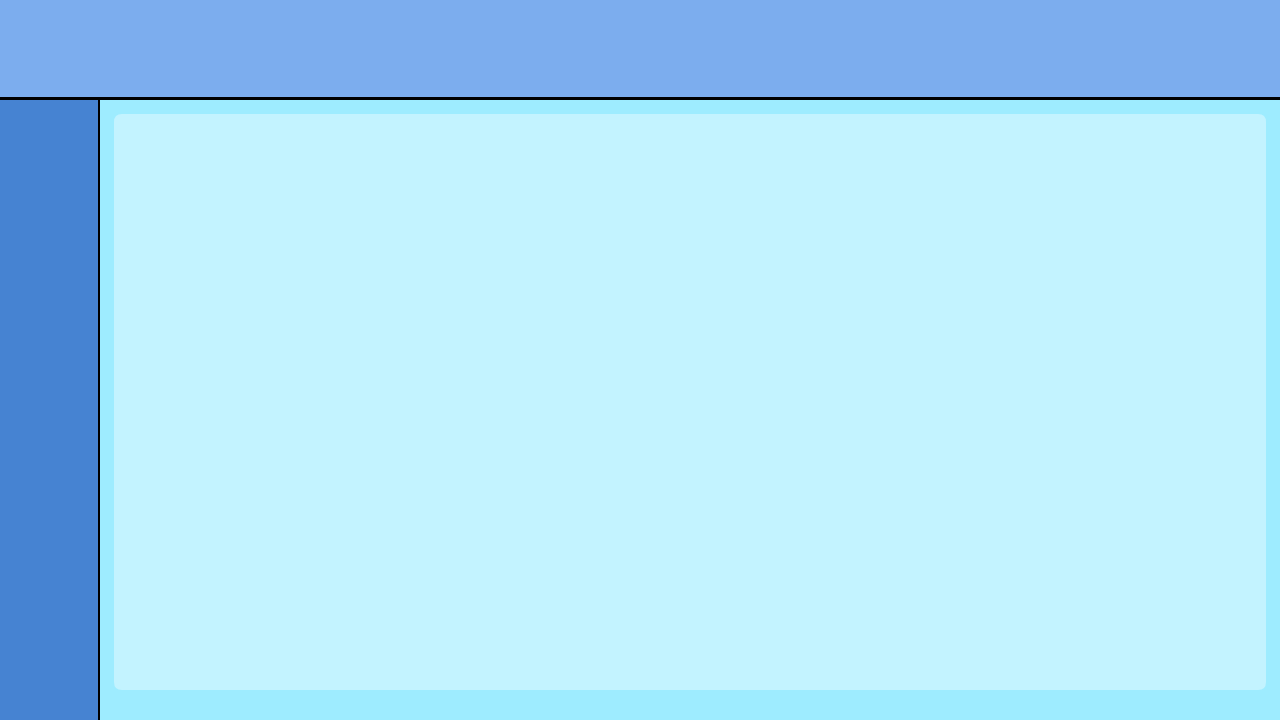

Layout of this report page (visuals, bound fields, positions):
{"tool":"powerbi","page":{"name":"Per square Km","canvas":[1280,720],"ordinal":5},"visuals":[{"type":"textbox","box":[30.2,0,1222.6,92.2],"z":0},{"type":"textbox","box":[566.7,238.3,404.8,97.8],"z":1000}]}

Visuals, with their boxes in screenshot pixels (x1, y1, x2, y2), scaled from the page's 1280x720 canvas onto the 1280x720 screenshot:
textbox: pyautogui.locateOnScreen(30, 0, 1253, 92)
textbox: pyautogui.locateOnScreen(567, 238, 972, 336)
